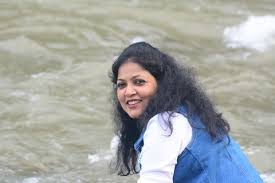indian_female: (92, 50, 182, 116)
